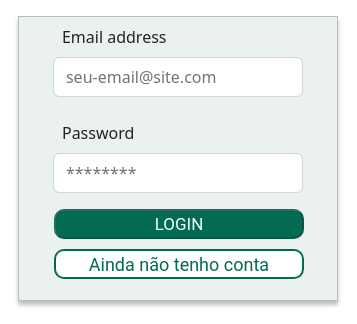
Test: testando página Login › Testa se mostra mensagem de erro com dados inválidos
Type "invalid@mail.com" into the field with placeholder "seu-email@site.com" at point(178, 77), box left=53, top=57, right=303, bottom=97
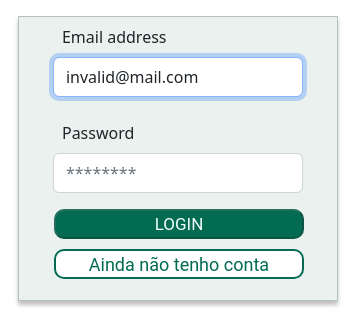
expect the button "LOGIN" is disabled: met, box left=54, top=209, right=304, bottom=239
Type "invalidpassword" into the password field with placeholder "********" at point(178, 173), box left=53, top=153, right=303, bottom=193
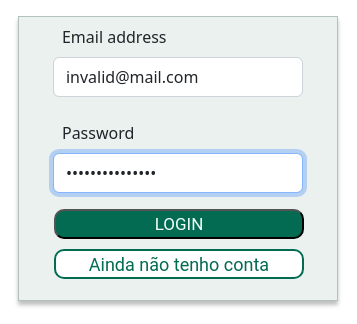
expect the button "LOGIN" is enabled: met
Click the button "LOGIN" at point(179, 224), box left=54, top=209, right=304, bottom=239
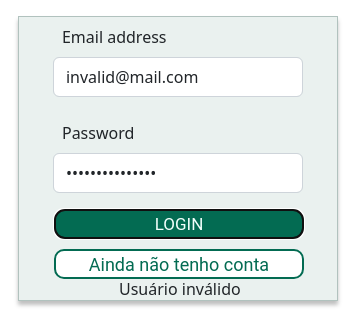
expect the text "Usuário inválido" is enabled: met, box left=119, top=278, right=241, bottom=302
